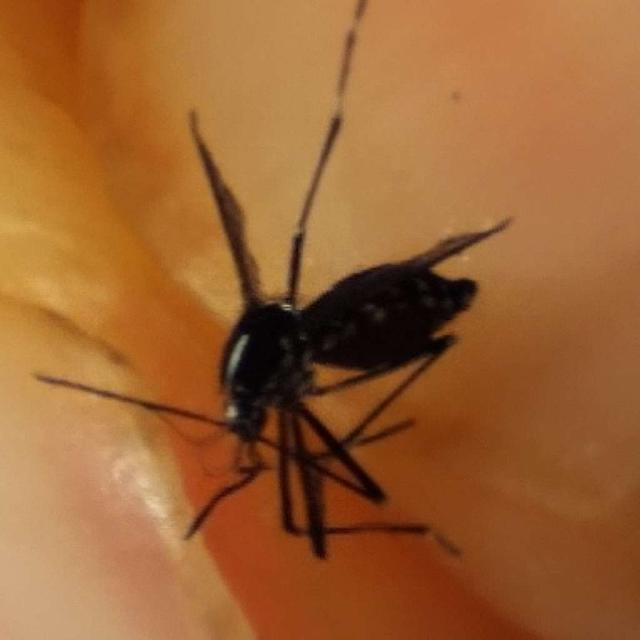albopictus: (89, 28, 515, 592)
